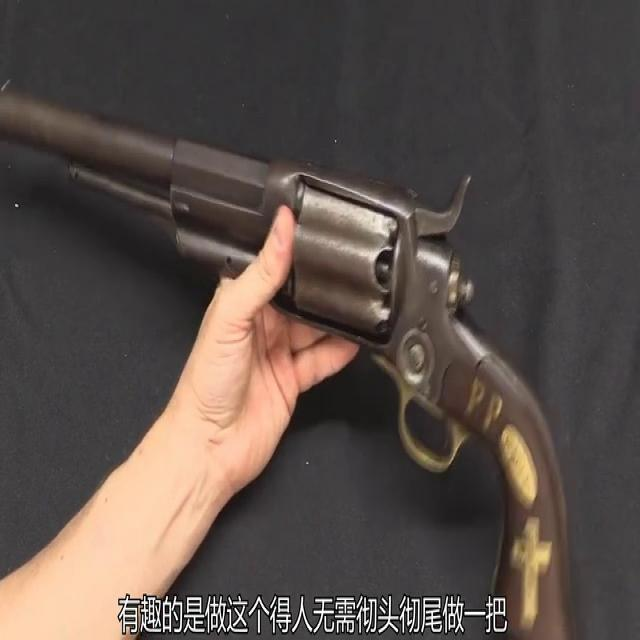gun-knife-thesis - v11 Yolov5 augmented: (0, 62, 589, 634)
